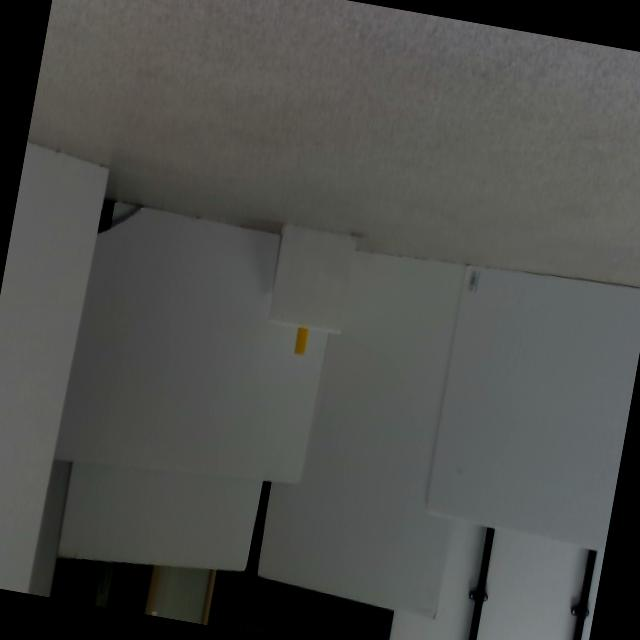yellow_cylinder: (293, 326, 308, 356)
